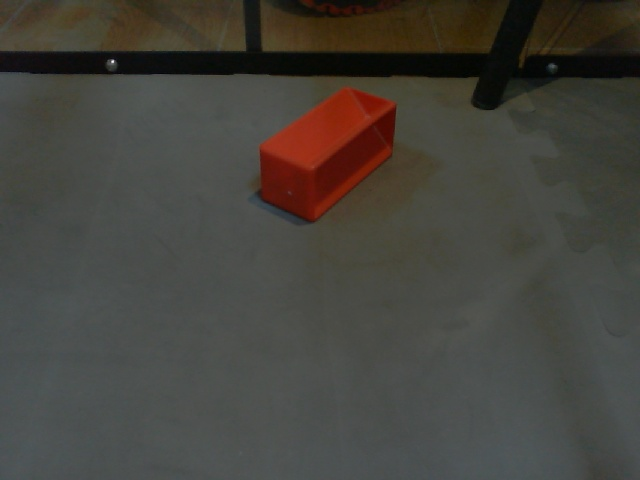RedSample: (257, 85, 396, 224)
